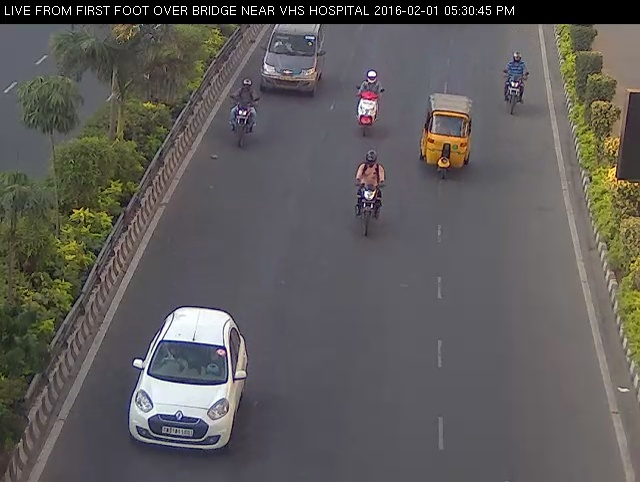Auto: (416, 89, 481, 186)
Car: (118, 290, 258, 468), (255, 12, 329, 101)
Person: (345, 148, 391, 242), (493, 44, 536, 130), (221, 75, 267, 155), (348, 66, 384, 142)
